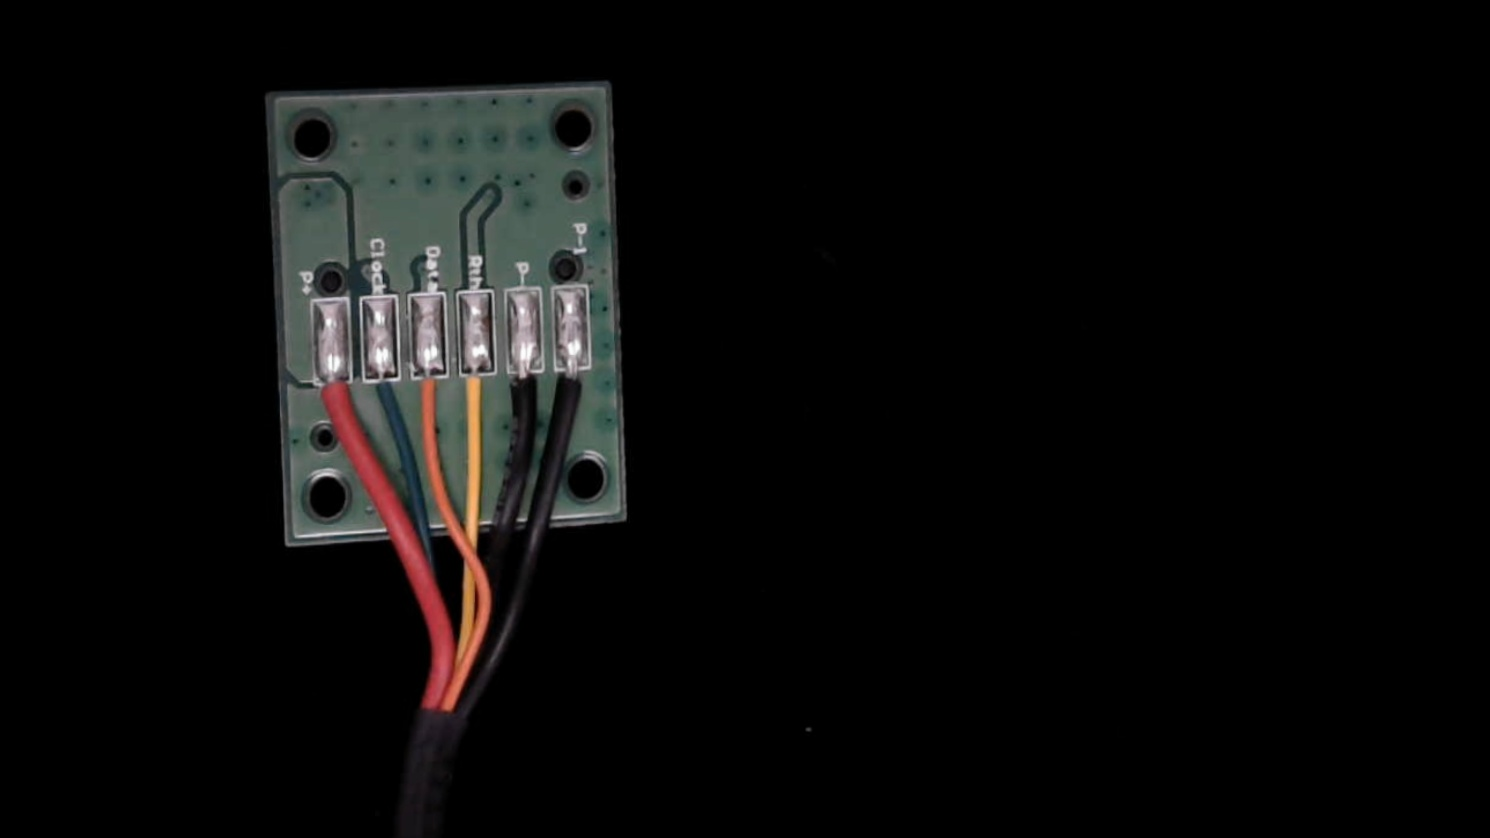Black: (503, 349, 542, 441)
Black1: (554, 345, 594, 435)
Green: (360, 354, 400, 440)
Orange: (411, 352, 447, 432)
Red: (312, 358, 351, 443)
Yellow: (457, 348, 493, 438)
